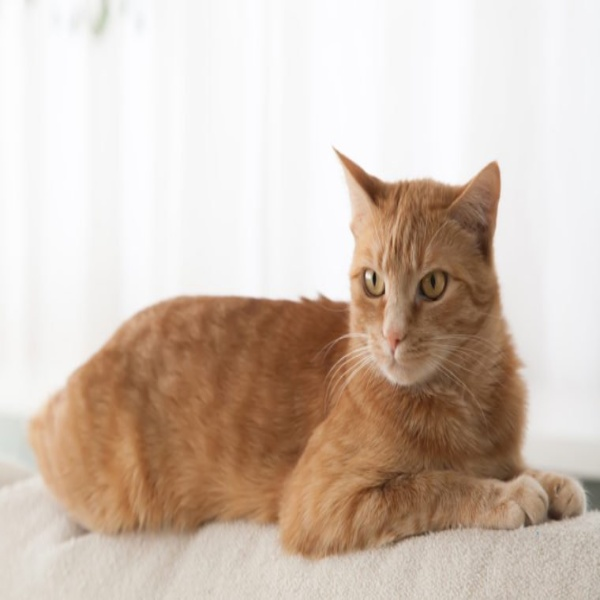cat: (21, 142, 591, 548)
